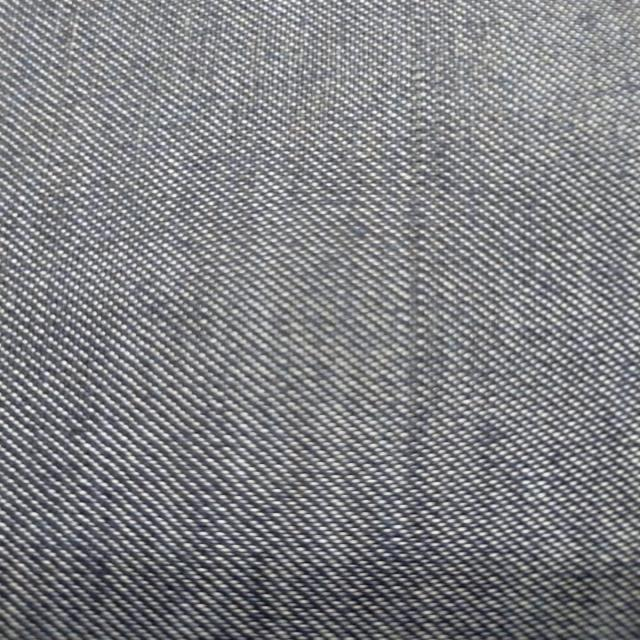Line: (397, 10, 423, 532)
